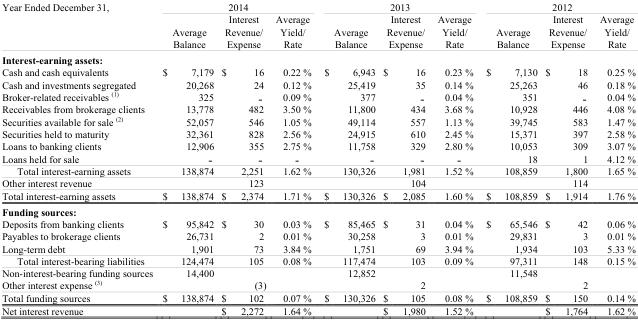table: (1, 1, 634, 316)
table column: (1, 1, 157, 316), (478, 1, 540, 316), (317, 1, 378, 316), (157, 1, 216, 316), (216, 1, 270, 316), (540, 1, 593, 316), (378, 1, 430, 316), (430, 1, 478, 316), (270, 1, 317, 316), (593, 1, 634, 316)
table column header: (1, 1, 634, 51)
table projected row header: (1, 51, 634, 65), (1, 203, 634, 217)
table row: (1, 12, 634, 51), (1, 188, 634, 203), (1, 51, 634, 65), (1, 89, 634, 103), (1, 151, 634, 165), (1, 203, 634, 217), (1, 65, 634, 78), (1, 114, 634, 127), (1, 229, 634, 242), (1, 278, 634, 291), (1, 291, 634, 304), (1, 127, 634, 139), (1, 139, 634, 151), (1, 176, 634, 188), (1, 217, 634, 229), (1, 242, 634, 254), (1, 254, 634, 266), (1, 266, 634, 278), (1, 304, 634, 316), (1, 1, 634, 12), (1, 78, 634, 89), (1, 103, 634, 114), (1, 165, 634, 176)
table spanning cell: (1, 1, 157, 51), (317, 1, 478, 12), (157, 1, 317, 12), (478, 1, 634, 12)
